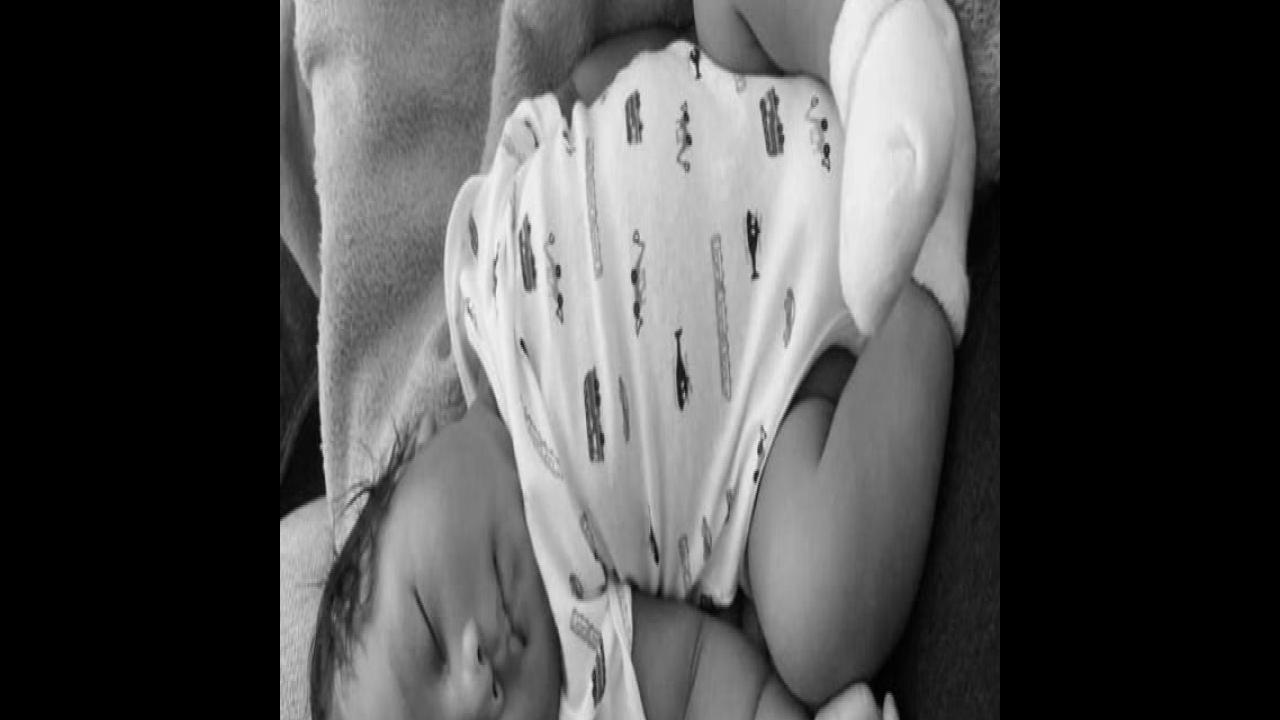hand: (804, 676, 908, 720)
